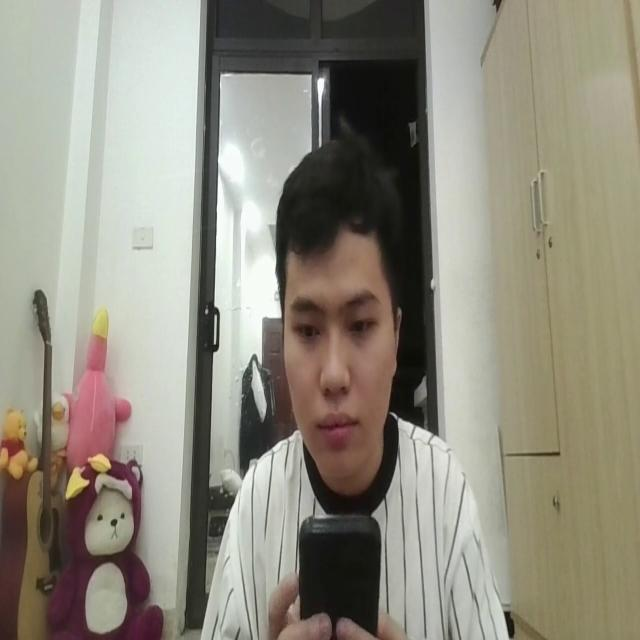phone: (299, 506, 383, 640)
student: (201, 132, 509, 640)
